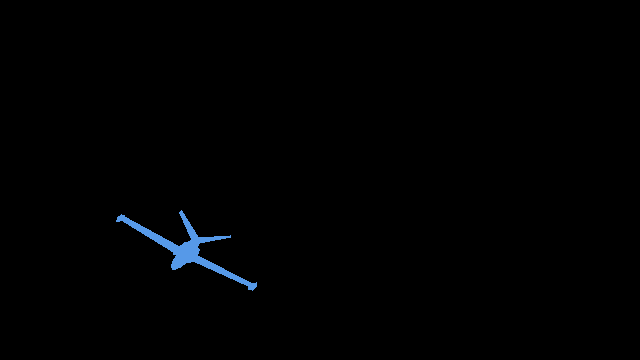Airplane: (116, 210, 256, 291)
